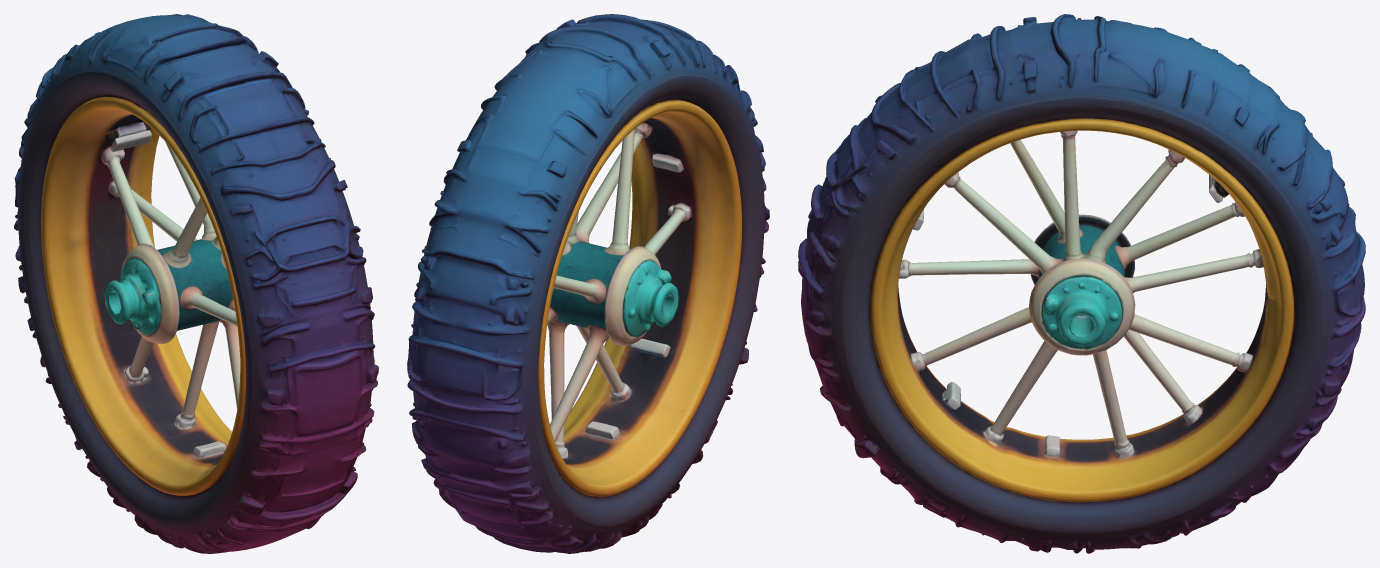
File: wheel.glb
3 renders of one model, left to right at view 1: azimuth 30°, elevation 25°; view 2: azimuth 150°, elevation 25°; view 3: azimuth 270°, elevation 25°, orthographic. The views are drawn at different scales.
Parts seen in each view (by area): view 1: tripo_node_d5820042-fbb3-4ab8-b47a-aec858557f71; view 2: tripo_node_d5820042-fbb3-4ab8-b47a-aec858557f71; view 3: tripo_node_d5820042-fbb3-4ab8-b47a-aec858557f71.
Part boxes in pixels (bbox=[...]): tripo_node_d5820042-fbb3-4ab8-b47a-aec858557f71: bbox=[14, 14, 378, 553]; tripo_node_d5820042-fbb3-4ab8-b47a-aec858557f71: bbox=[407, 14, 769, 553]; tripo_node_d5820042-fbb3-4ab8-b47a-aec858557f71: bbox=[798, 14, 1365, 553].
Size of the model in its own units: 0.3379 by 0.9778 by 0.9797.
1 material, 1 textured.
